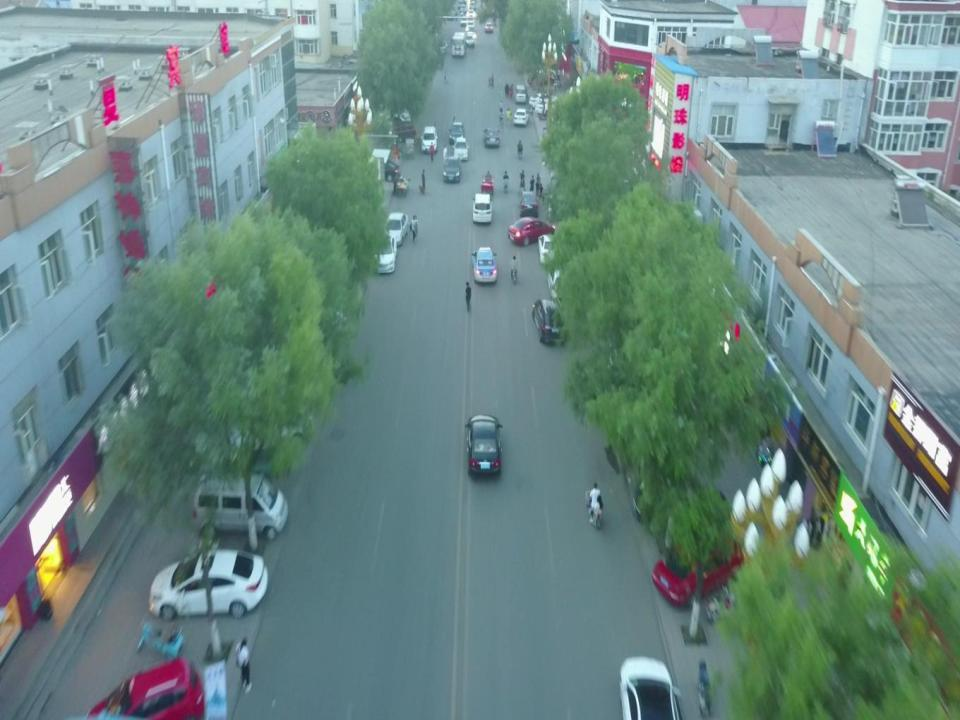car: (149, 548, 268, 619), (82, 653, 206, 720), (650, 532, 748, 612), (630, 464, 730, 527), (222, 398, 314, 456), (618, 656, 682, 720), (464, 413, 503, 478), (531, 296, 569, 346), (507, 214, 557, 246), (370, 233, 397, 276), (470, 246, 498, 286), (382, 211, 409, 247), (538, 232, 565, 266), (546, 264, 571, 300), (368, 157, 400, 182), (384, 120, 416, 142), (471, 192, 493, 223), (518, 189, 539, 216), (420, 124, 438, 154), (443, 155, 461, 183), (529, 92, 558, 109), (534, 99, 560, 117), (452, 135, 468, 162), (448, 121, 465, 146), (482, 127, 500, 148), (513, 107, 529, 126)
truck: (450, 31, 466, 58)
van: (190, 470, 290, 543), (515, 84, 527, 104), (466, 32, 475, 48)
